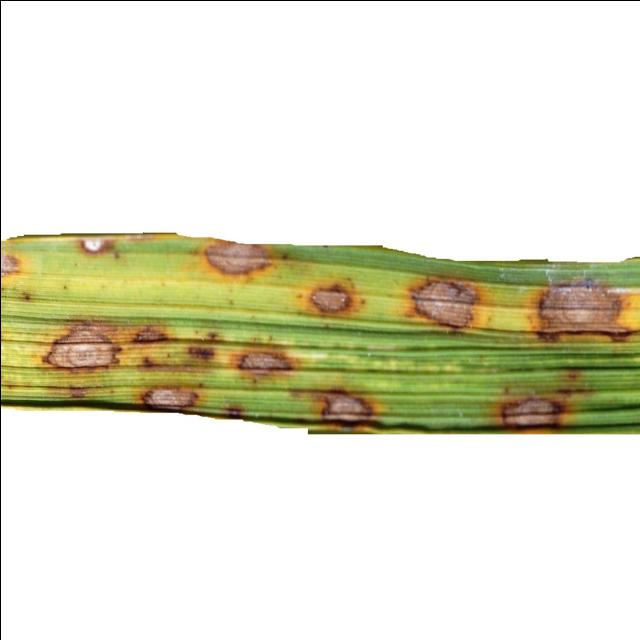Brown spot: (0, 198, 640, 465)
